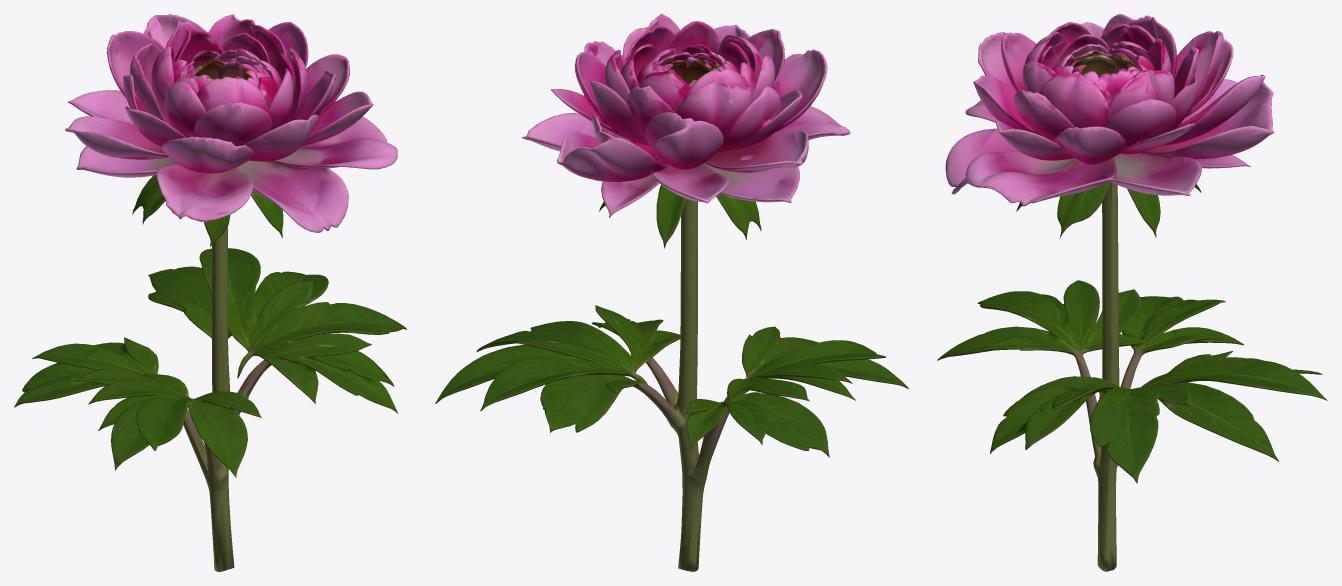
The model's file is shaoyao.glb.
3 renders of one model, left to right at view 1: azimuth 30°, elevation 25°; view 2: azimuth 150°, elevation 25°; view 3: azimuth 270°, elevation 25°, orthographic.
Visible parts, largest first — view 1: node_0; view 2: node_0; view 3: node_0.
Boxes of the visible parts, left/top/right/bottom form: node_0: left=14, top=14, right=406, bottom=571; node_0: left=435, top=14, right=908, bottom=571; node_0: left=937, top=14, right=1327, bottom=571.
Bounding box in the file's own units: 0.8329 × 1.11 × 0.7511.
Materials: 1 (1 with a texture image).
